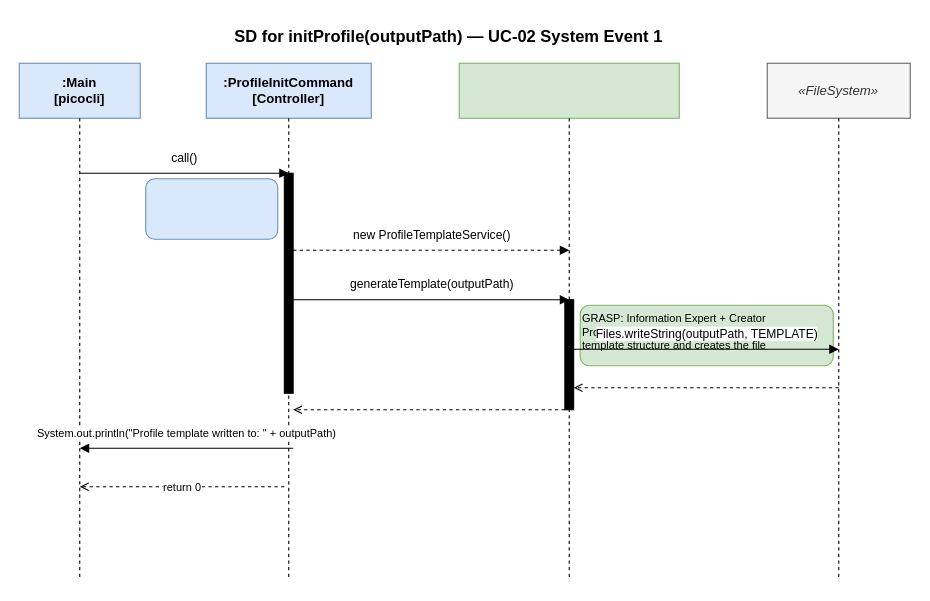
This 930x601 diagram has some shape labels left out. Here are the shapes that lost their labels. From the top down, the centre of each, then its label:
the point at 568,90: :ProfileTemplateService [Information Expert, Creator]
the point at 211,208: GRASP: Controller ProfileInitCommand handles the initProfile system event
